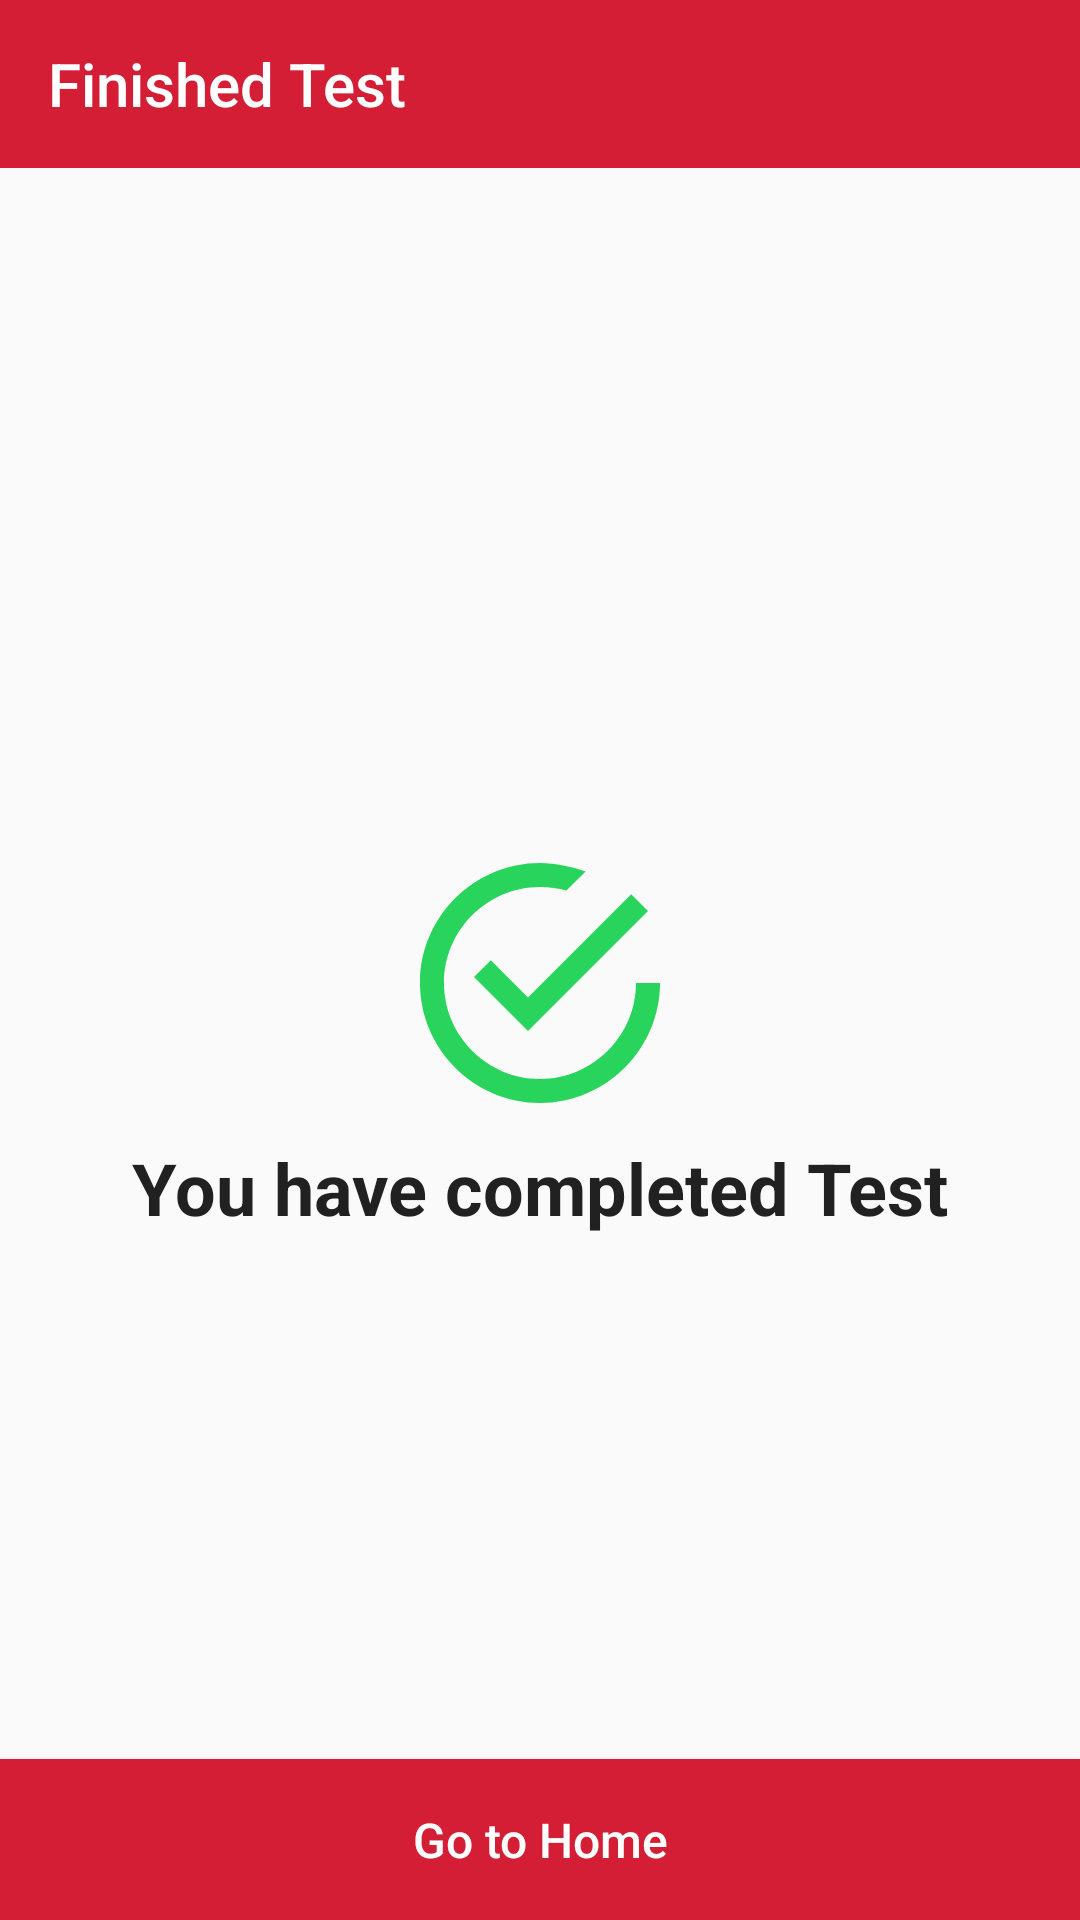

Icons on this 1080px x 1920px Android screen, each with its box as (x1, y1, x2, y2):
tick inside circle: (420, 863, 660, 1103)
